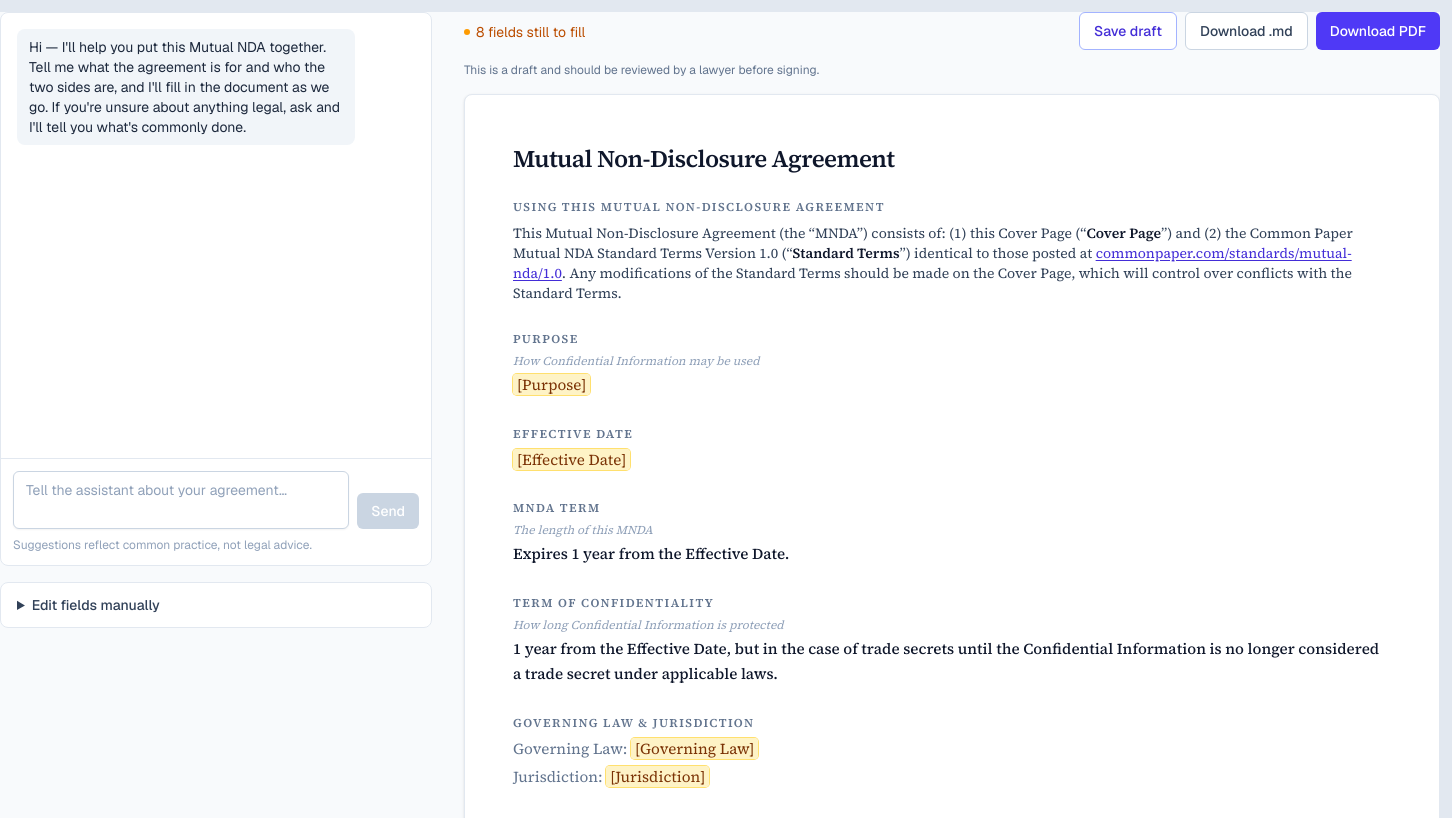
Scenario: drafting by chat › leaves the document alone when a turn establishes nothing
Type "What does governing law mean?" into the text box named "Message the drafting assistant" at {"x": 181, "y": 500}, box [13,471,349,529]
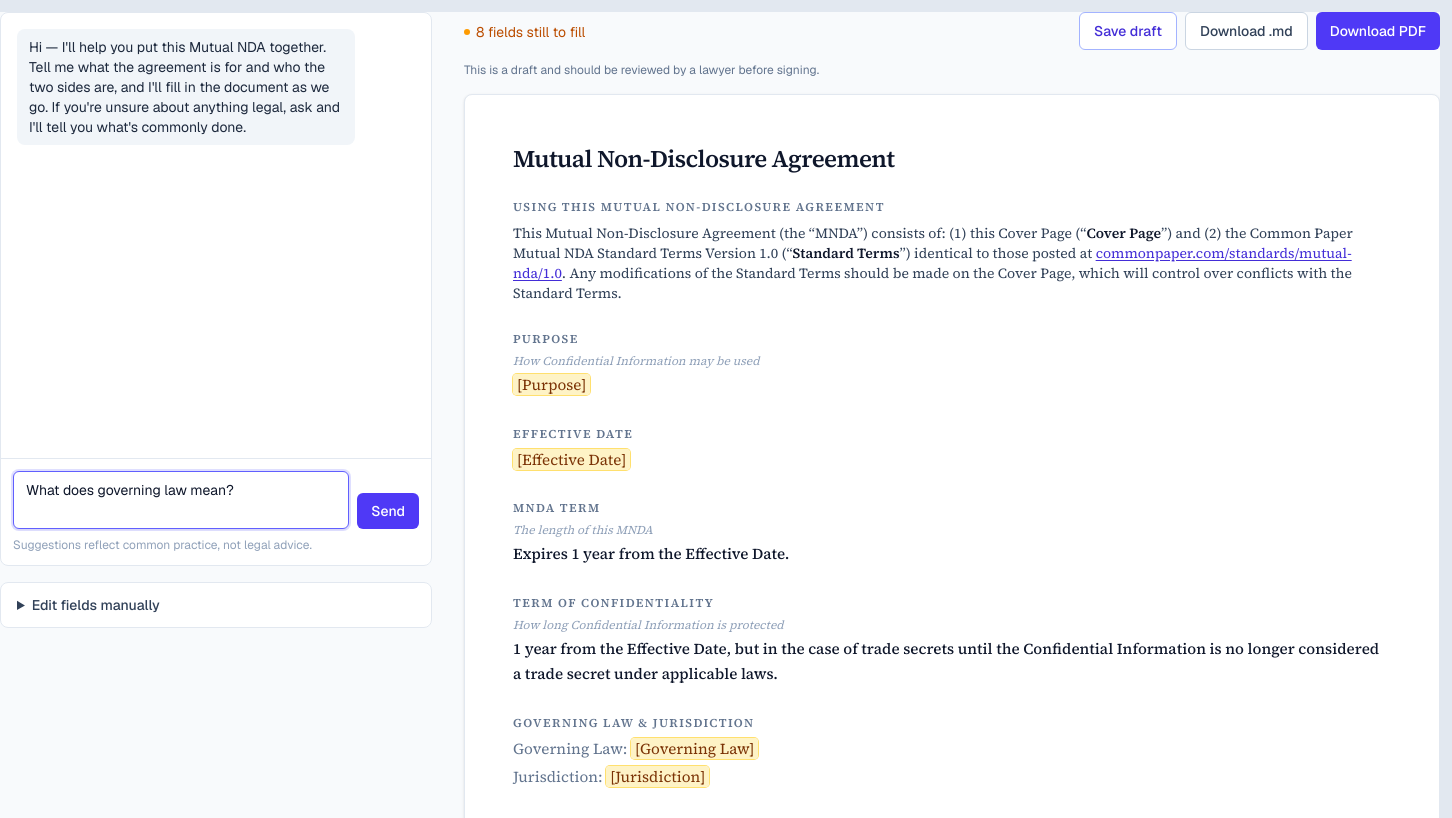
Click the button "Send" at {"x": 388, "y": 511}, box [357,493,419,529]
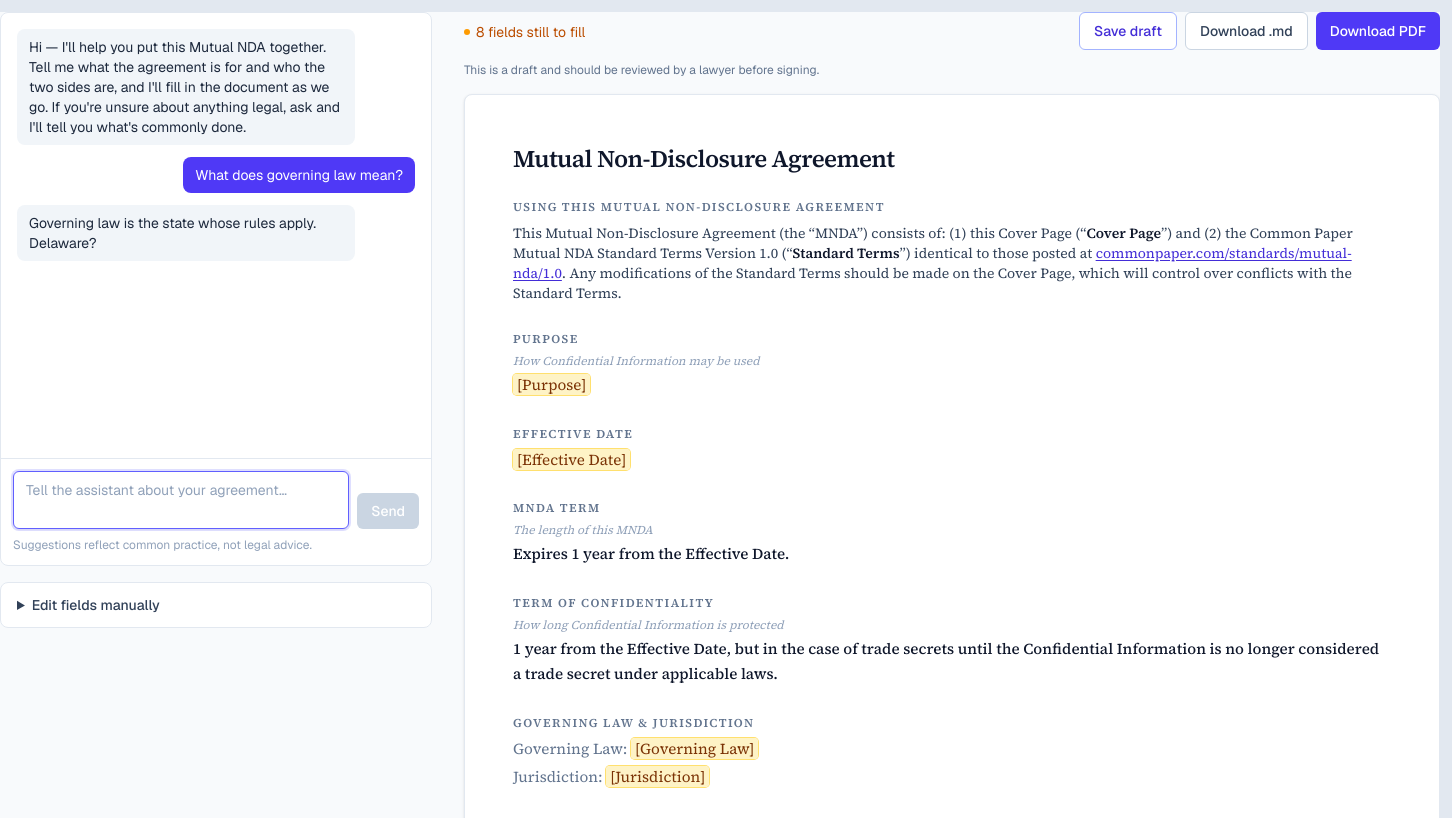
Expected: the element that starts with "Mutual Non-Disclosure Agreement" shows "[Purpose]", [517,374,586,395]
Now the text "Governing law is the state whose rules apply. Delaware?" is shown, box [17,205,355,261]
